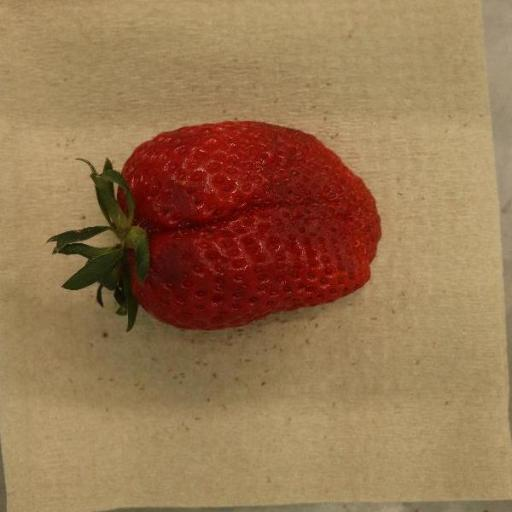Strawberry: (45, 121, 382, 332)
